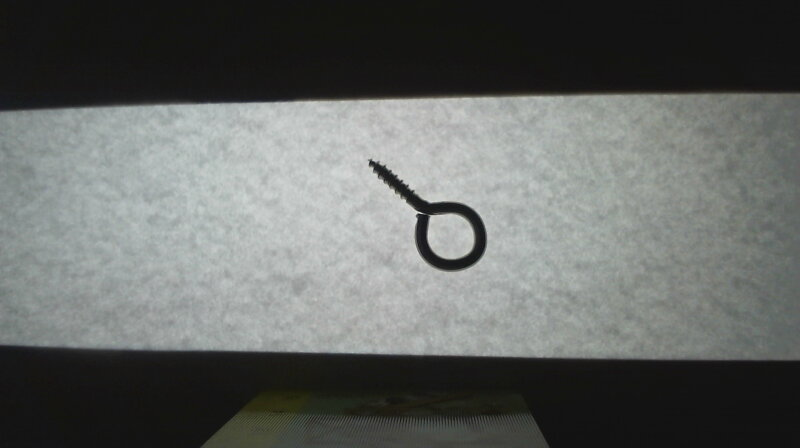O001: (363, 154, 491, 274)
